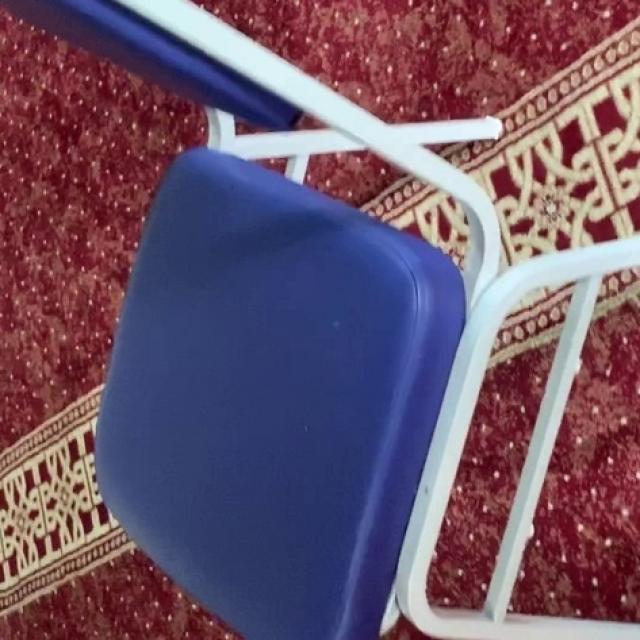chair: (7, 1, 638, 640)
